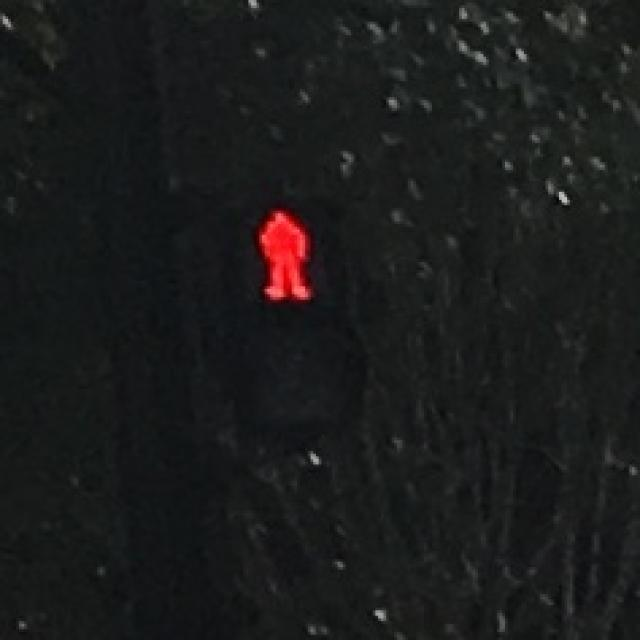red_light: (238, 197, 330, 308)
